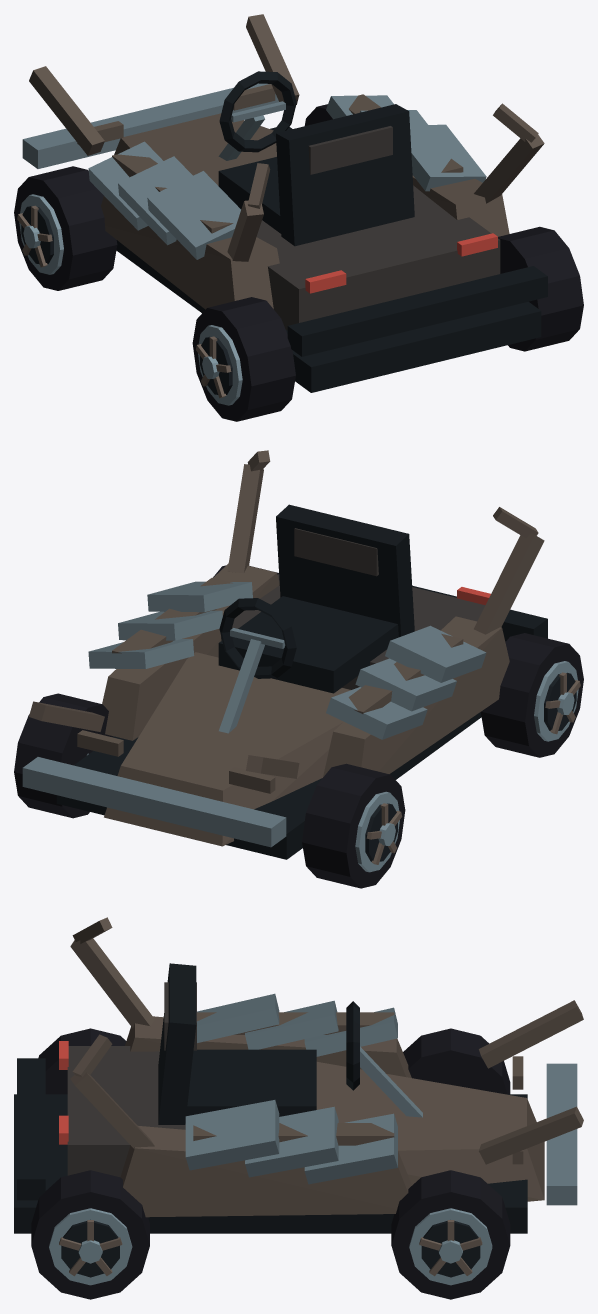
File: kart.glb
The picture shows the model from 3 angles, top to bottom: view 1: azimuth 30°, elevation 25°; view 2: azimuth 150°, elevation 25°; view 3: azimuth 270°, elevation 25°; orthographic projection.
Visible parts, largest first — view 1: chassis, wheel-rear-left, wheel-front-left, wheel-rear-right; view 2: chassis, wheel-front-left, wheel-rear-left, wheel-front-right; view 3: chassis, wheel-front-right, wheel-rear-right, wheel-front-left, wheel-rear-left.
Part boxes in pixels (bbox=[...]): chassis: bbox=[22, 14, 547, 392]; wheel-rear-left: bbox=[192, 297, 295, 421]; wheel-front-left: bbox=[14, 166, 117, 290]; wheel-rear-right: bbox=[498, 226, 583, 351]; chassis: bbox=[22, 450, 547, 859]; wheel-front-left: bbox=[302, 763, 405, 888]; wheel-rear-left: bbox=[480, 633, 583, 757]; wheel-front-right: bbox=[14, 693, 112, 818]; chassis: bbox=[14, 917, 583, 1233]; wheel-front-right: bbox=[391, 1170, 510, 1299]; wheel-rear-right: bbox=[31, 1170, 149, 1299]; wheel-front-left: bbox=[403, 1028, 510, 1094]; wheel-rear-left: bbox=[38, 1028, 126, 1094].
Bounding box in the file's own units: 2.19 × 1.38 × 2.97.
